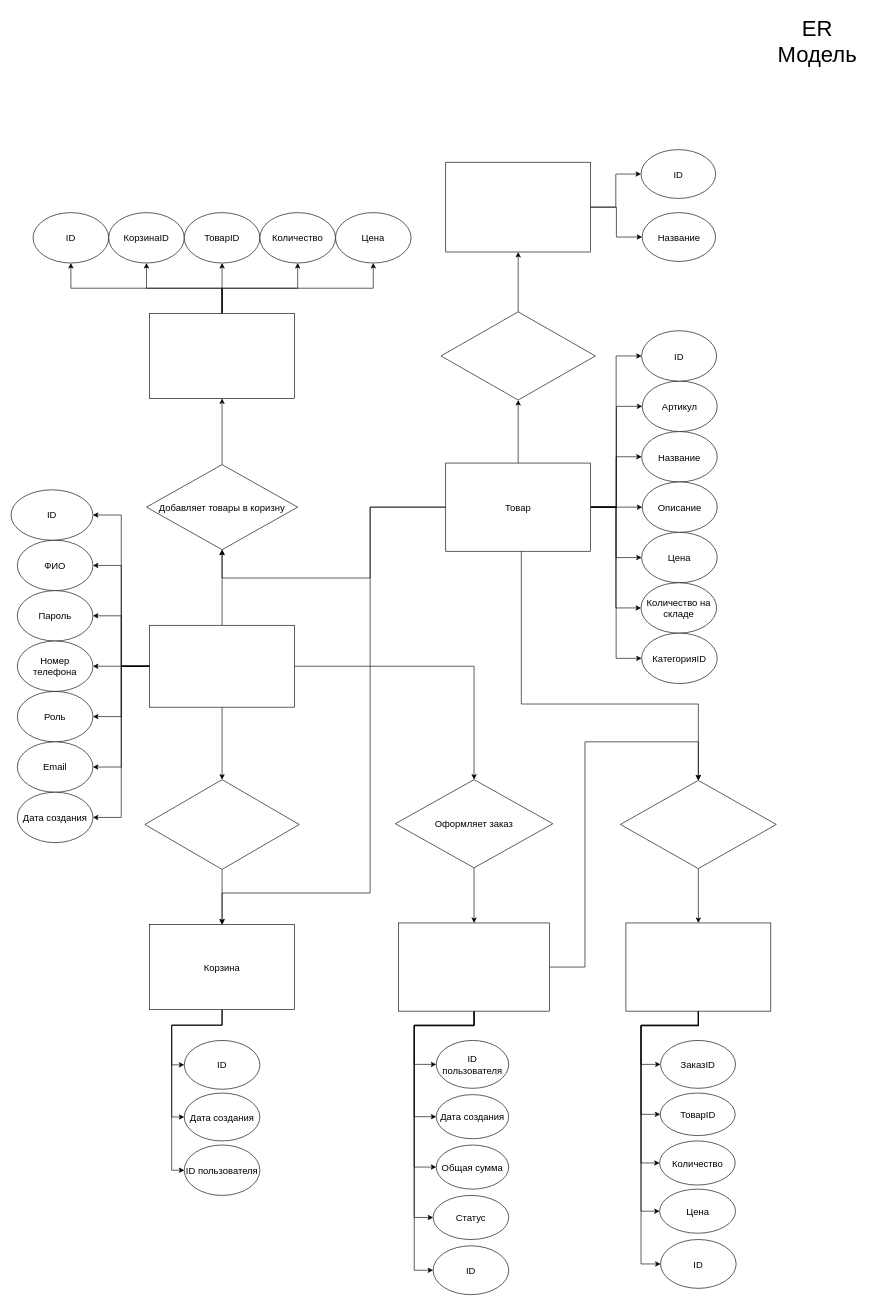
This 885x1305 diagram has some shape labels left out. Each missing label, with the centre of its shape:
"Включает в себя" belongs at point (517, 355).
"Заказ" belongs at point (474, 966).
"Имеет позиции" belongs at point (698, 824).
"Использует для товаров" belongs at point (221, 824).
"Категория" belongs at point (518, 207).
"Позиции в заказе" belongs at point (698, 966).
"Позиции в корзине" belongs at point (222, 355).
"Пользователь" belongs at point (222, 666).
